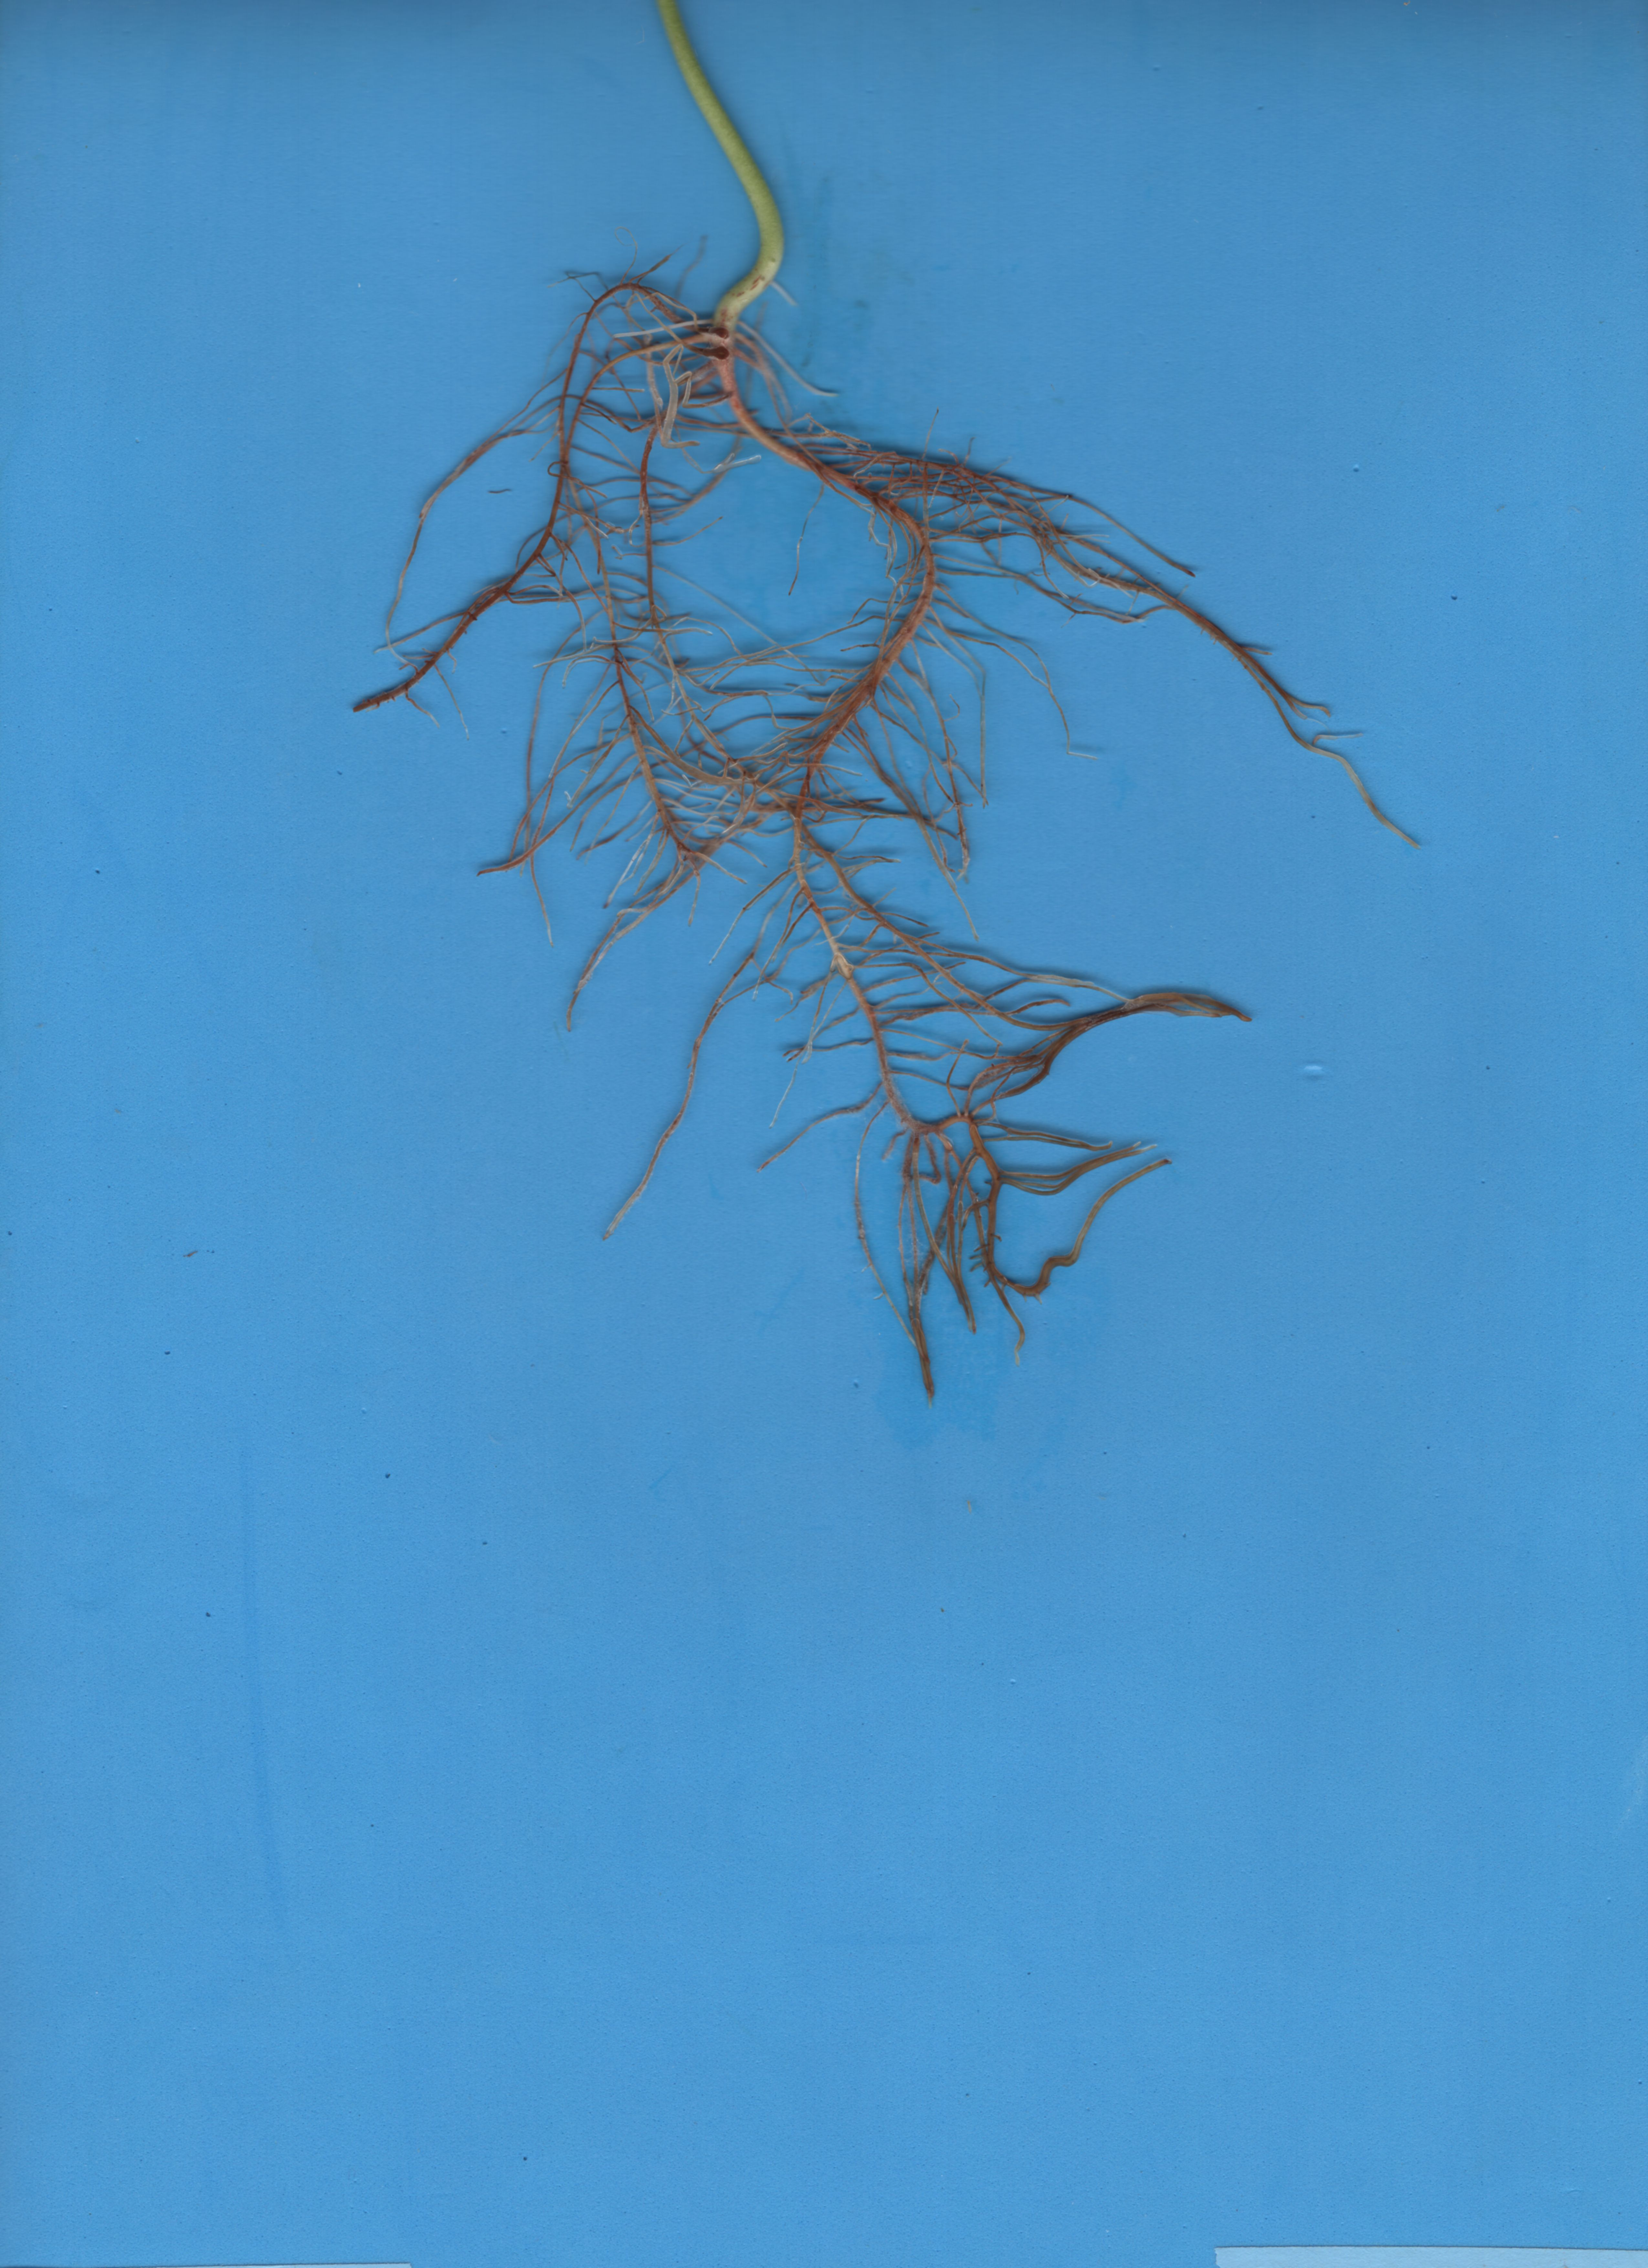CROWNGOOD: (590, 0, 850, 347)
ROOTDISEASE: (257, 245, 1493, 1470)
